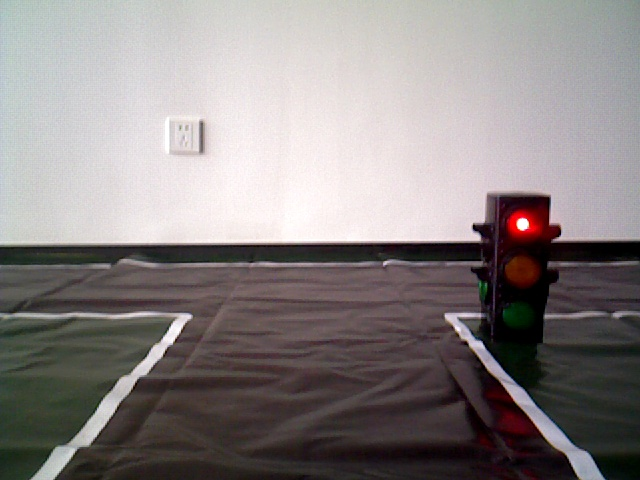red: (487, 195, 544, 336)
